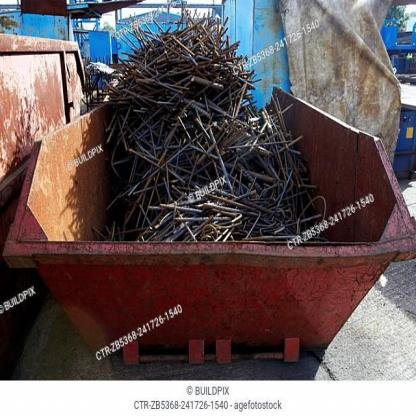rebar: (104, 3, 329, 242)
